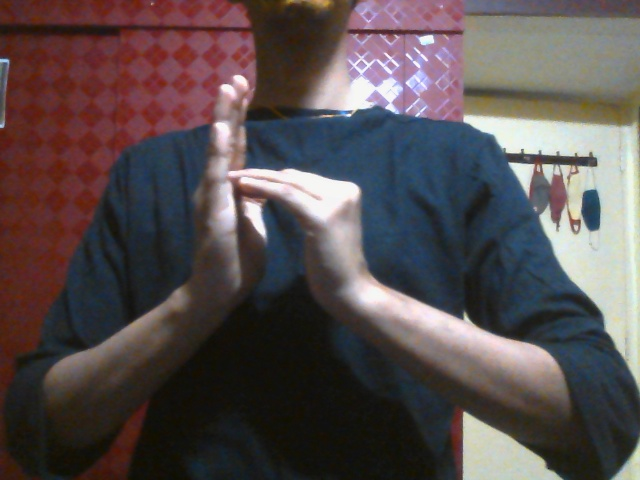Z: (167, 73, 382, 344)
